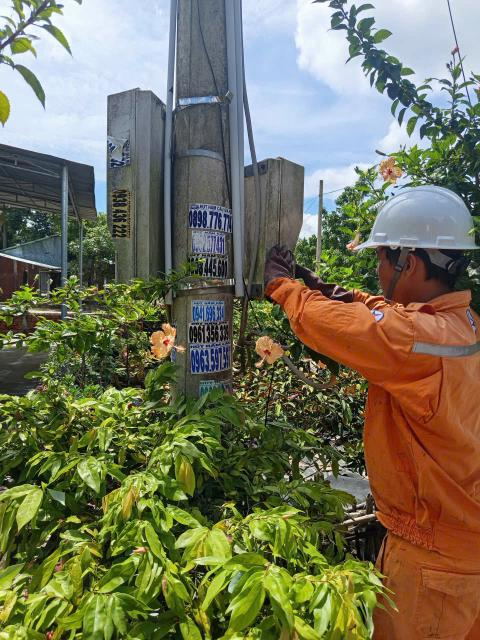gloves: (288, 252, 367, 305), (254, 232, 301, 307)
helmet: (344, 169, 480, 272)
